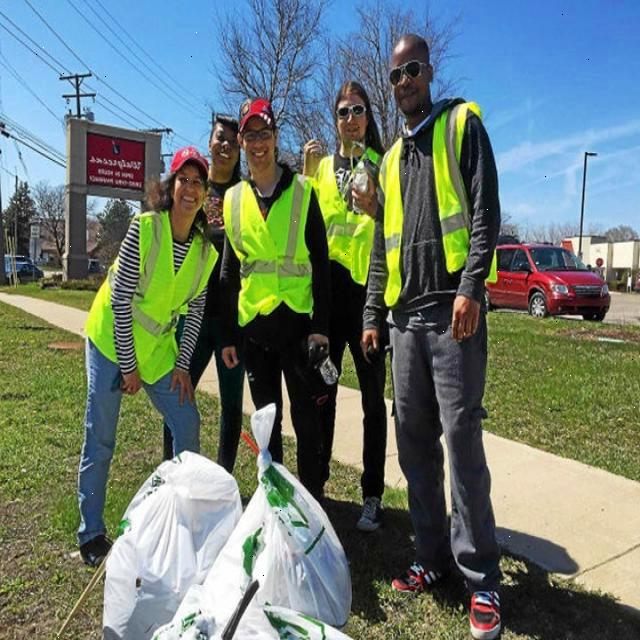Vest: (373, 103, 480, 302), (89, 223, 212, 374), (223, 175, 314, 318), (314, 153, 377, 269)
